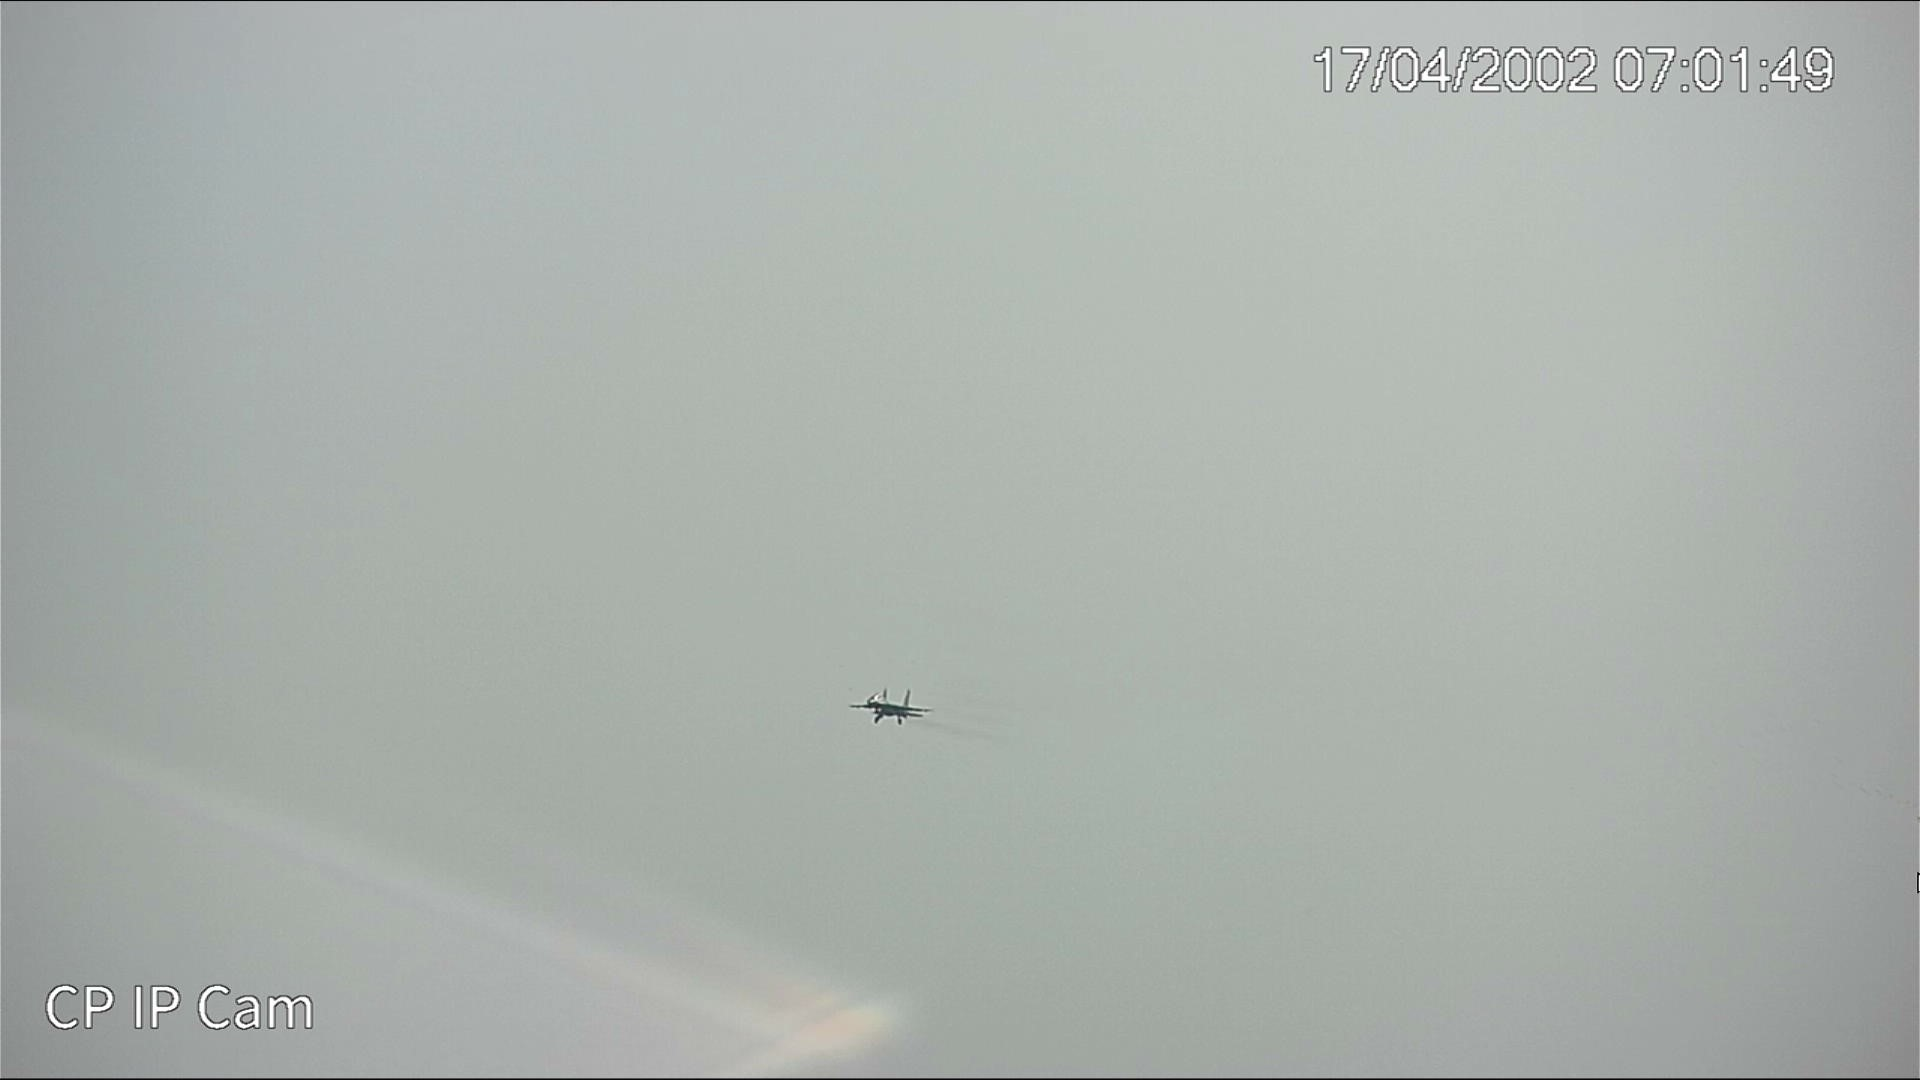SU_30: (851, 688, 932, 723)
